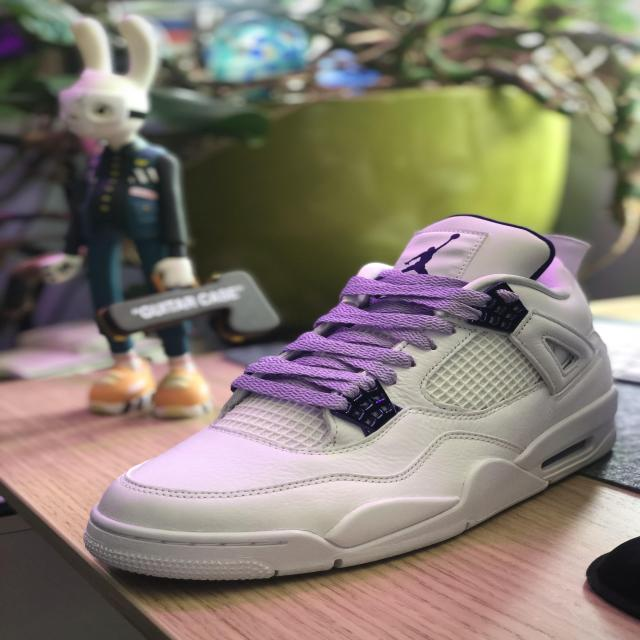shoe: (79, 205, 629, 597)
